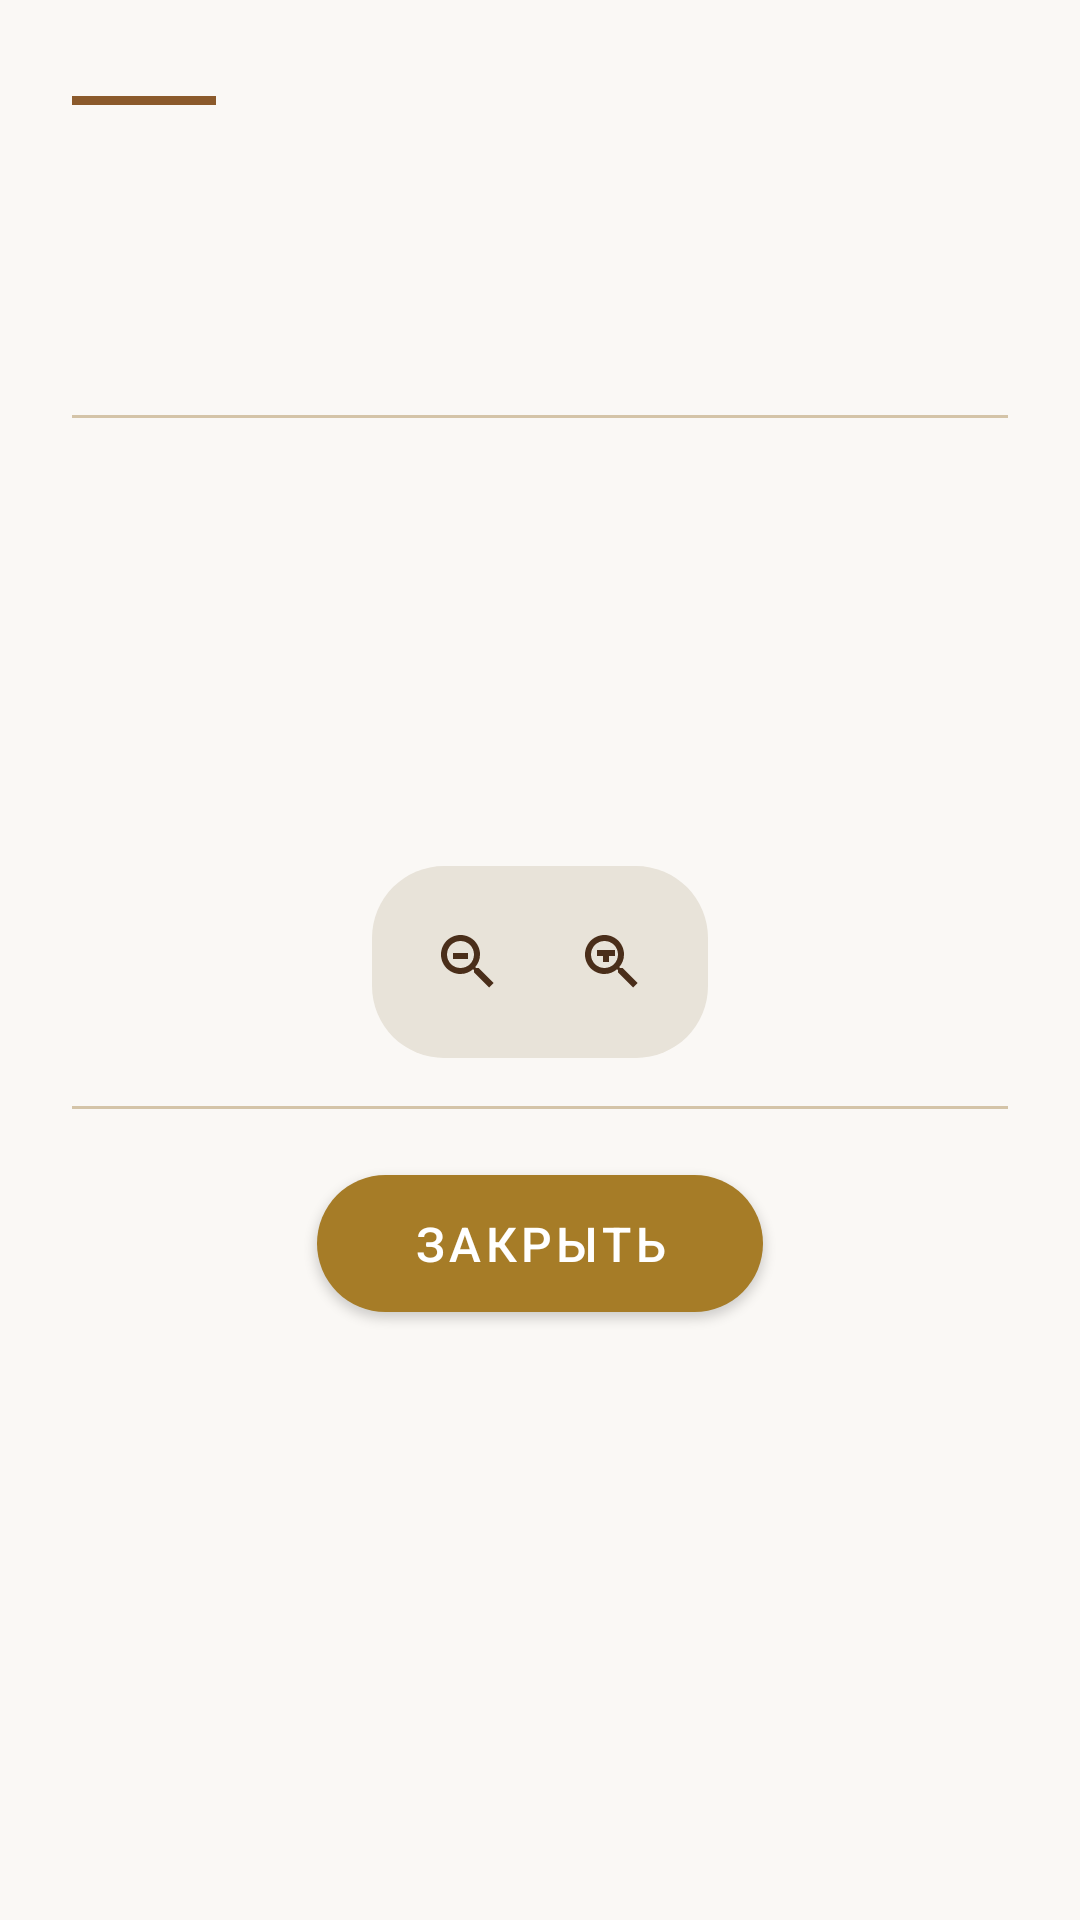

Point at icon controls on the screen. Image size 1080px x 1920px, points as [x,y].
Увеличить шрифт: [611,961]
Уменьшить шрифт: [467,961]
